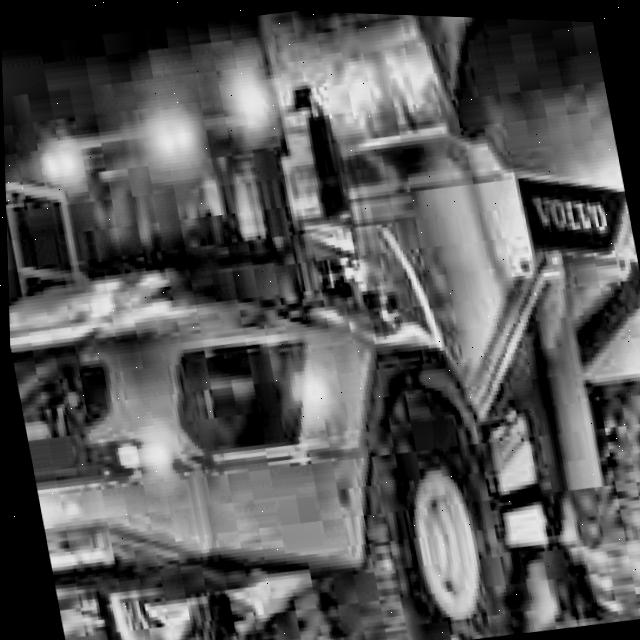dump_truck: (0, 10, 640, 640)
